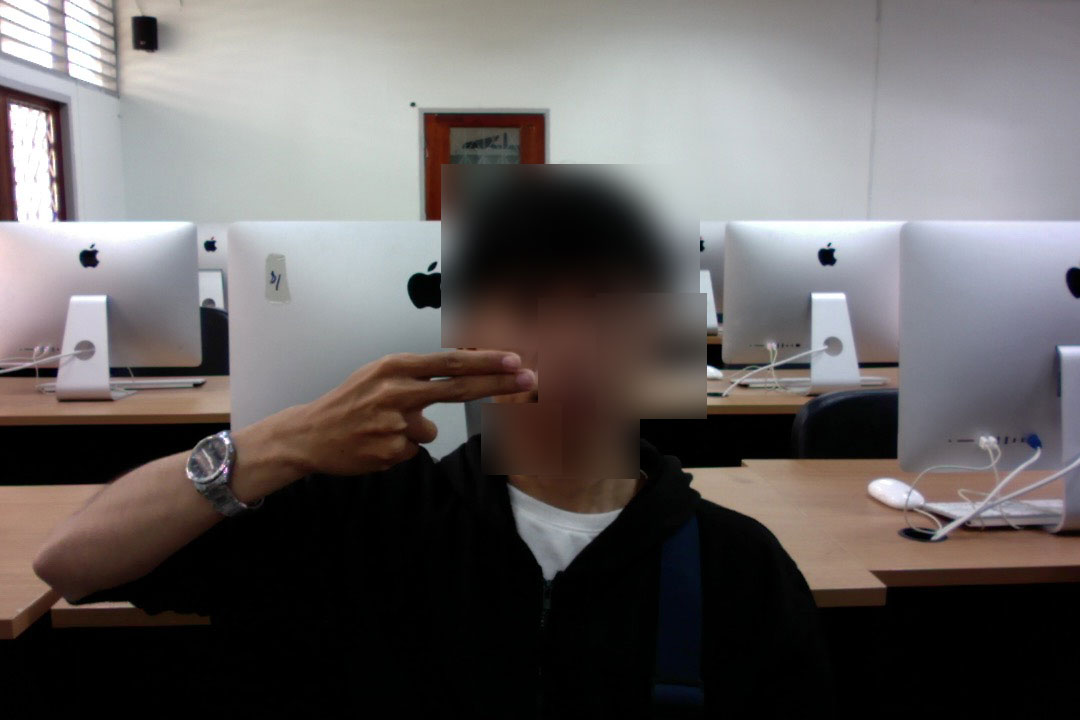hor: (301, 342, 541, 490)
